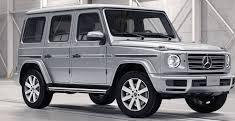SUV: (18, 5, 231, 117)
